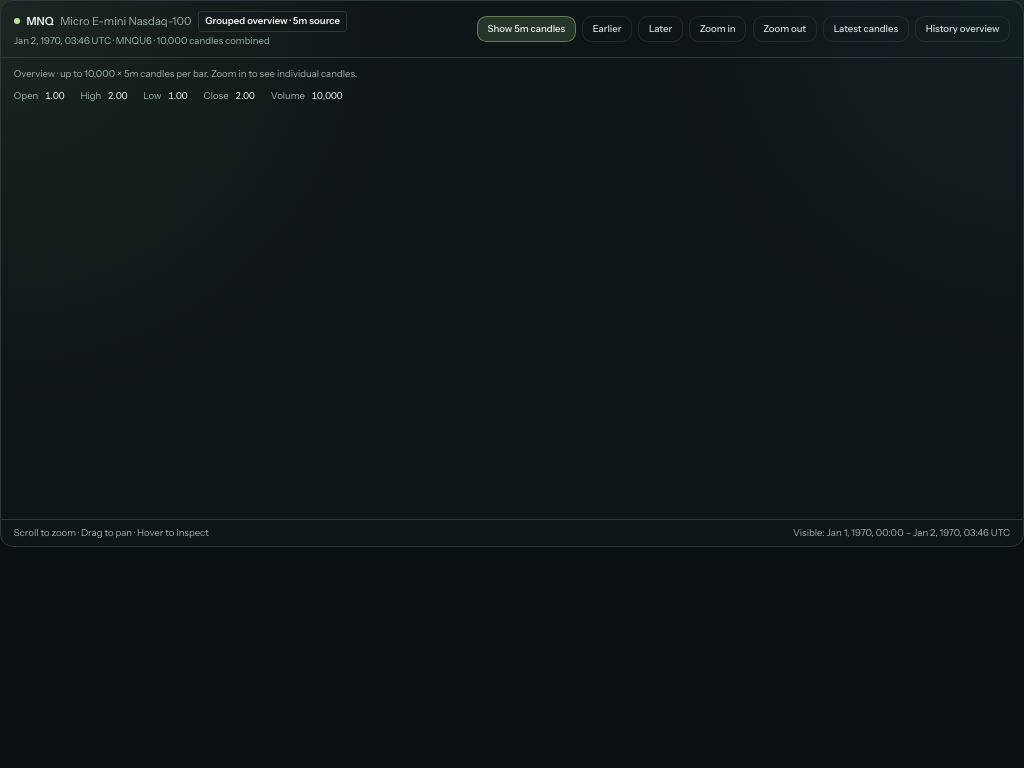
Test: provides an explicit way back to actual timeframe candles from an overview
This screenshot has width=1024, height=768.
Expected: the text "Grouped overview · 5m source" is shown, [198,11,347,32]
Click the button "Show 5m candles": (526, 29) [477,16,576,42]
Wait 1000 ms
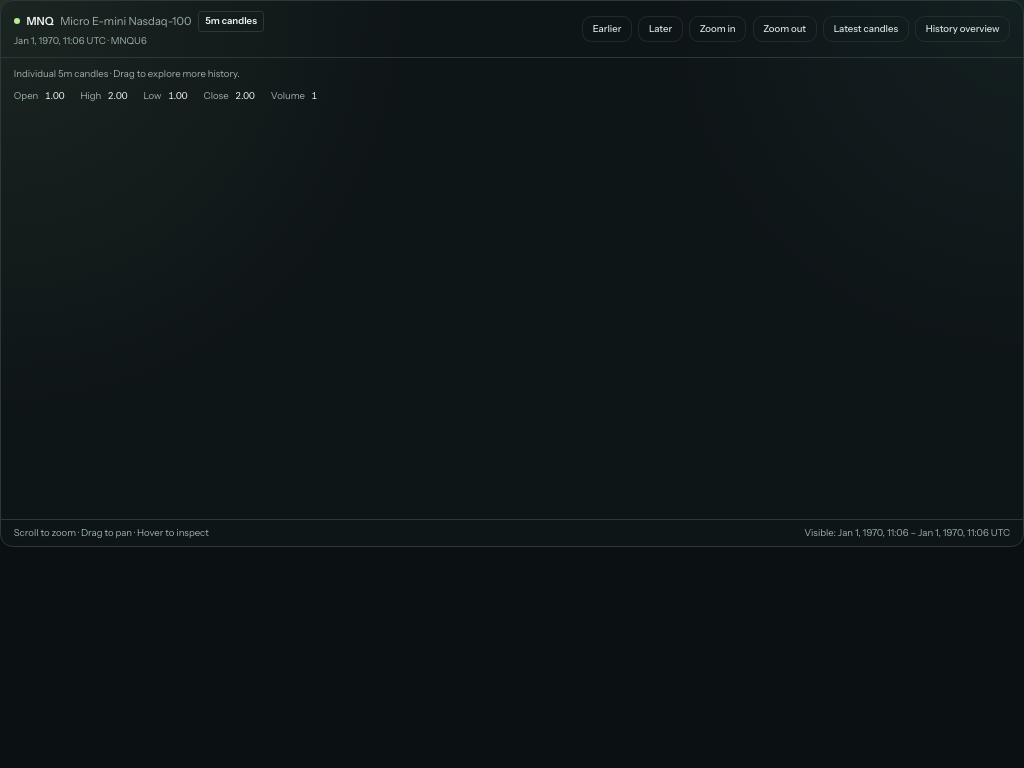
Expected: the text "5m candles" is shown, [198,11,264,32]
Expected: the button "Show 5m candles" is gone
